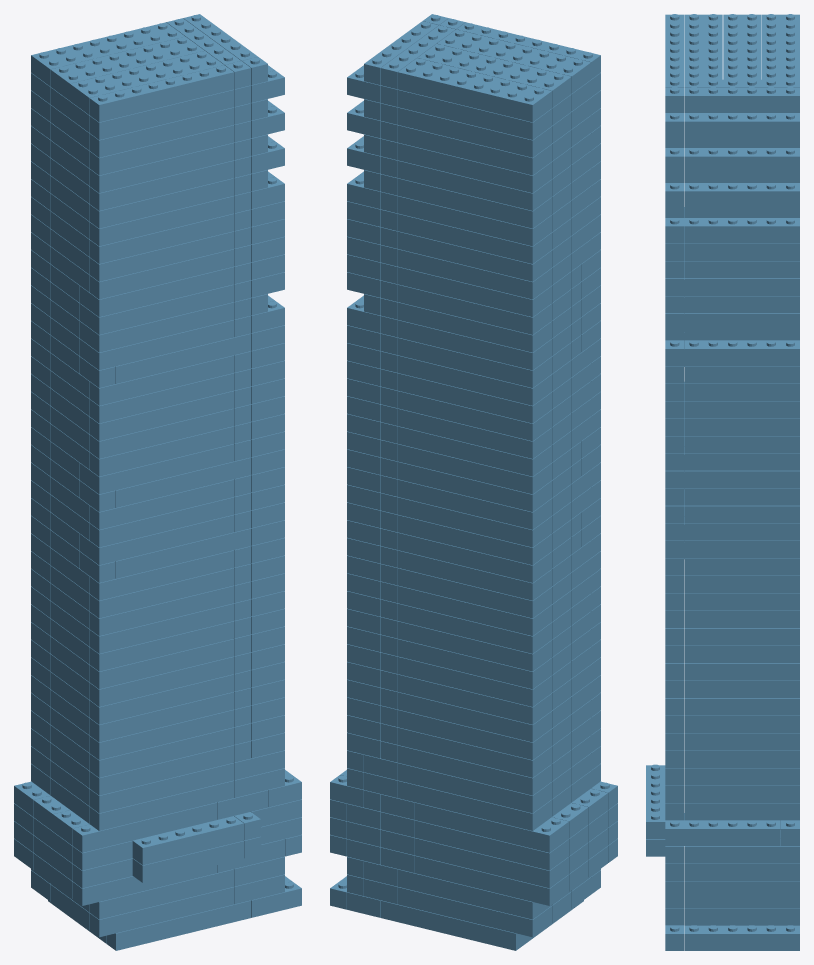
File: 167_guitar_L2.glb
The picture shows the model from 3 angles, left to right: view 1: azimuth 30°, elevation 25°; view 2: azimuth 150°, elevation 25°; view 3: azimuth 270°, elevation 25°; orthographic projection.
Size of the model in its own units: 12.98 by 48.13 by 7.98.
